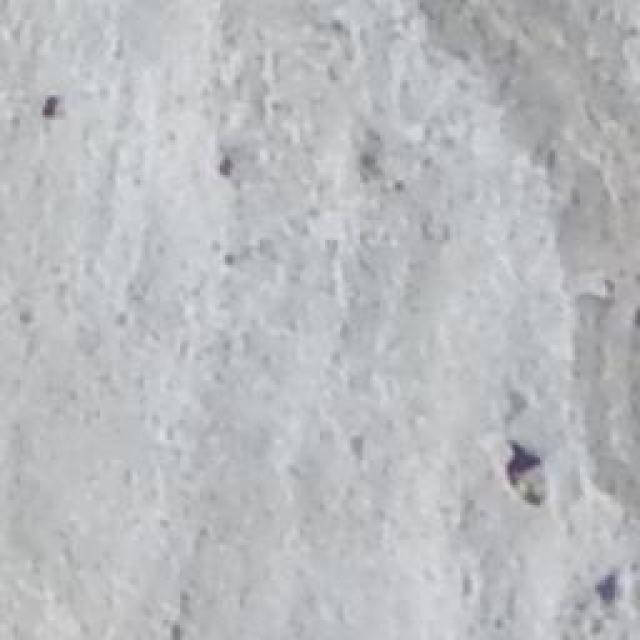concrete-crack: (505, 440, 545, 508), (592, 570, 620, 608)
